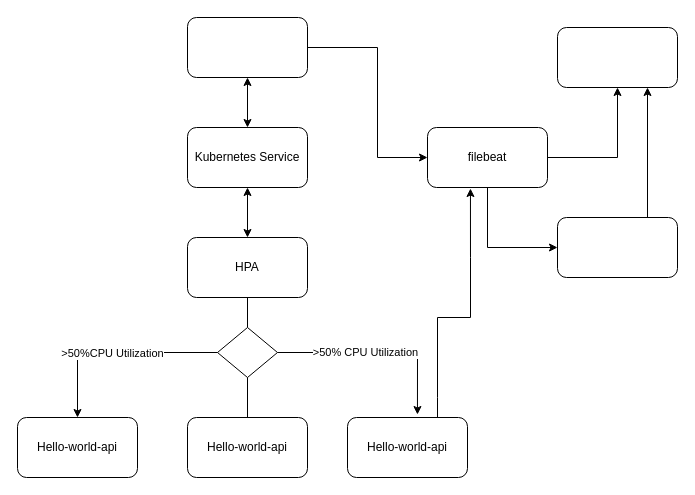
The diagram is 695 pixels wide and 495 high, and some of its shapes have lost their labels. The shapes that lost their labels are listed below. From the top down, each one's box as (x1, y1, x2, y2) in pixels, then its label:
(186, 16, 308, 78): Kubernetes Cluster
(556, 26, 678, 88): elastisearch
(556, 216, 678, 278): kibana
